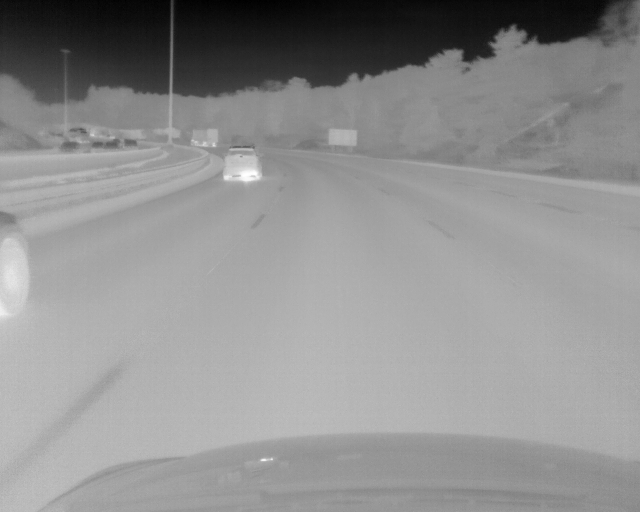car: (1, 204, 32, 321), (223, 143, 263, 182), (190, 129, 219, 148), (58, 140, 81, 153)
